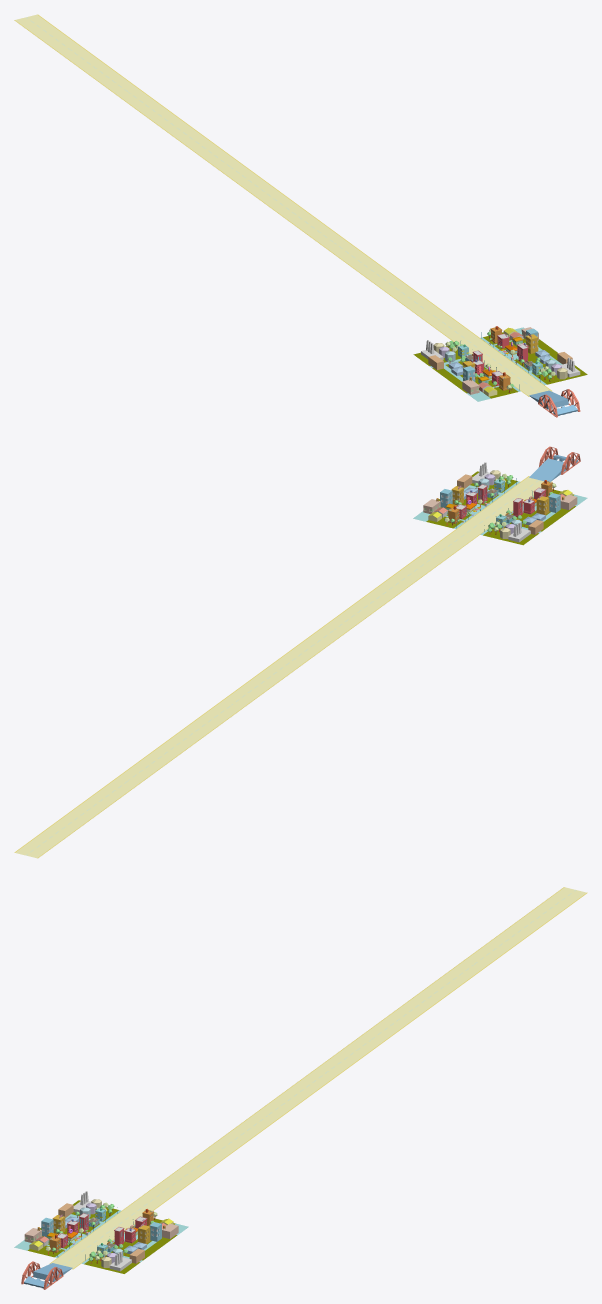
The model's file is city_pre_4.glb.
The picture shows the model from 3 angles, top to bottom: view 1: azimuth 30°, elevation 25°; view 2: azimuth 150°, elevation 25°; view 3: azimuth 330°, elevation 25°; orthographic projection.
Visible parts, largest first — view 1: ground road.001, ground road.002, ground road.003, ground road.004, ground road, ground, ground.001; view 2: ground road.001, ground road.002, ground road.003, ground road.004, ground road, ground.001, ground; view 3: ground road.001, ground road.002, ground road.003, ground road.004, ground road, ground, ground.001.
Boxes of the visible parts, x1,y1,x2,y2 form: ground road.001: [323, 240, 449, 321]; ground road.002: [219, 164, 345, 245]; ground road.003: [116, 89, 242, 170]; ground road.004: [14, 14, 139, 95]; ground road: [426, 315, 552, 396]; ground: [480, 327, 587, 385]; ground.001: [413, 346, 520, 401]; ground road.001: [323, 551, 448, 632]; ground road.002: [220, 627, 345, 707]; ground road.003: [117, 702, 242, 783]; ground road.004: [14, 777, 140, 858]; ground road: [426, 476, 552, 557]; ground.001: [480, 489, 587, 545]; ground: [413, 471, 520, 528]; ground road.001: [153, 1112, 279, 1193]; ground road.002: [256, 1037, 381, 1118]; ground road.003: [358, 962, 484, 1043]; ground road.004: [462, 887, 587, 967]; ground road: [49, 1188, 175, 1269]; ground: [82, 1218, 188, 1273]; ground.001: [14, 1200, 121, 1257].
Size of the model in its own units: 31.94 by 4.96 by 272.
41 materials, 22 textured.
